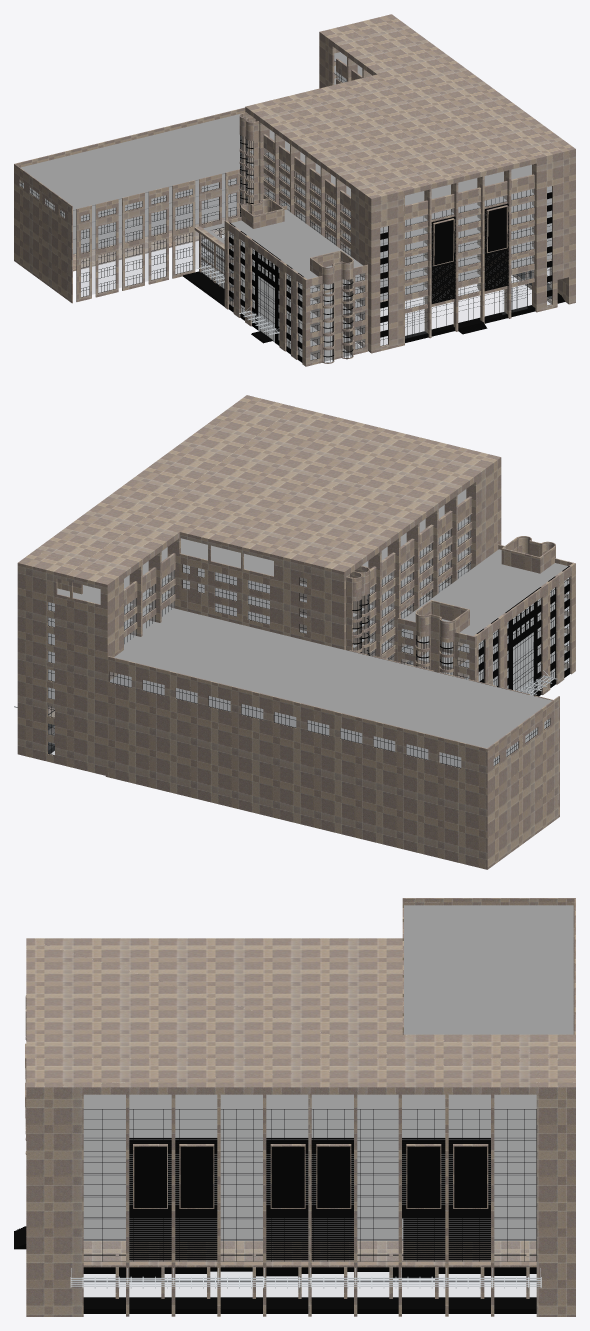
The model's file is building_with_no_road_fbx.fbx.
3 renders of one model, top to bottom at view 1: azimuth 30°, elevation 25°; view 2: azimuth 150°, elevation 25°; view 3: azimuth 270°, elevation 25°, orthographic. The views are drawn at different scales.
Visible parts, largest first — view 1: Line01, Object04, Arc14, Arc08, Rectangle386, Rectangle378, Rectangle343, object 6, Rectangle326, Line17; view 2: Line01, Object04, Arc14, Arc08, Rectangle378, Rectangle386; view 3: Line01, Object04, Arc14, Rectangle343, Rectangle386, Rectangle326, object 6, Arc08, Rectangle01, Line17.
Boxes of the visible parts, x1=… form: Line01: x1=14, y1=14, x2=575, y2=366; Object04: x1=19, y1=52, x2=551, y2=361; Arc14: x1=19, y1=72, x2=551, y2=362; Arc08: x1=19, y1=72, x2=551, y2=362; Rectangle386: x1=73, y1=113, x2=551, y2=363; Rectangle378: x1=229, y1=192, x2=552, y2=362; Rectangle343: x1=431, y1=203, x2=508, y2=303; object 6: x1=183, y1=270, x2=565, y2=343; Rectangle326: x1=434, y1=207, x2=506, y2=265; Line17: x1=198, y1=260, x2=279, y2=335; Line01: x1=17, y1=395, x2=575, y2=869; Object04: x1=48, y1=489, x2=568, y2=767; Arc14: x1=48, y1=515, x2=569, y2=767; Arc08: x1=48, y1=515, x2=569, y2=768; Rectangle378: x1=476, y1=566, x2=569, y2=696; Rectangle386: x1=48, y1=536, x2=555, y2=717; Line01: x1=26, y1=898, x2=575, y2=1316; Object04: x1=83, y1=905, x2=573, y2=1240; Arc14: x1=72, y1=1110, x2=539, y2=1296; Rectangle343: x1=129, y1=1138, x2=490, y2=1260; Rectangle386: x1=25, y1=995, x2=536, y2=1298; Rectangle326: x1=134, y1=1146, x2=486, y2=1207; object 6: x1=14, y1=1226, x2=536, y2=1313; Arc08: x1=83, y1=1109, x2=536, y2=1297; Rectangle01: x1=83, y1=1255, x2=536, y2=1279; Line17: x1=70, y1=1268, x2=541, y2=1288.
Bounding box in the file's own units: 11844 × 4462 × 9853.
10 materials, 1 textured.
